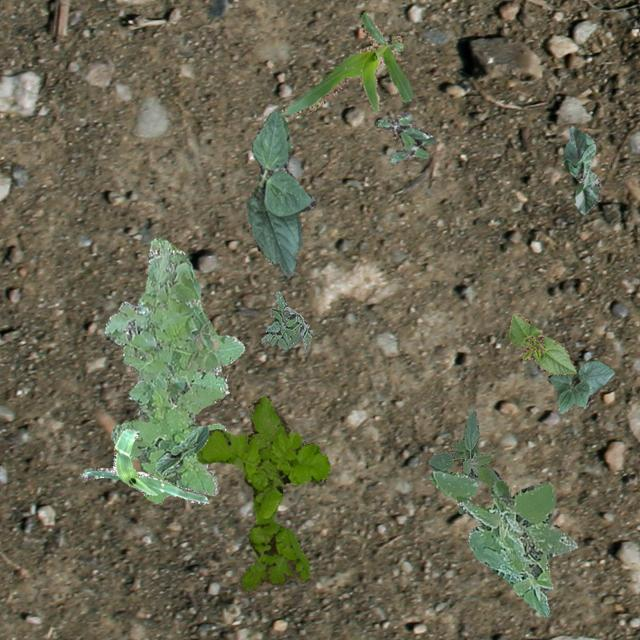crop: (279, 12, 412, 116), (246, 110, 316, 276), (80, 428, 208, 503), (508, 312, 576, 374), (546, 358, 614, 412), (562, 124, 598, 213), (154, 424, 208, 474)
weed: (104, 238, 244, 502), (195, 394, 328, 592), (428, 468, 576, 616), (428, 410, 500, 512), (374, 110, 434, 162), (260, 290, 310, 350)
